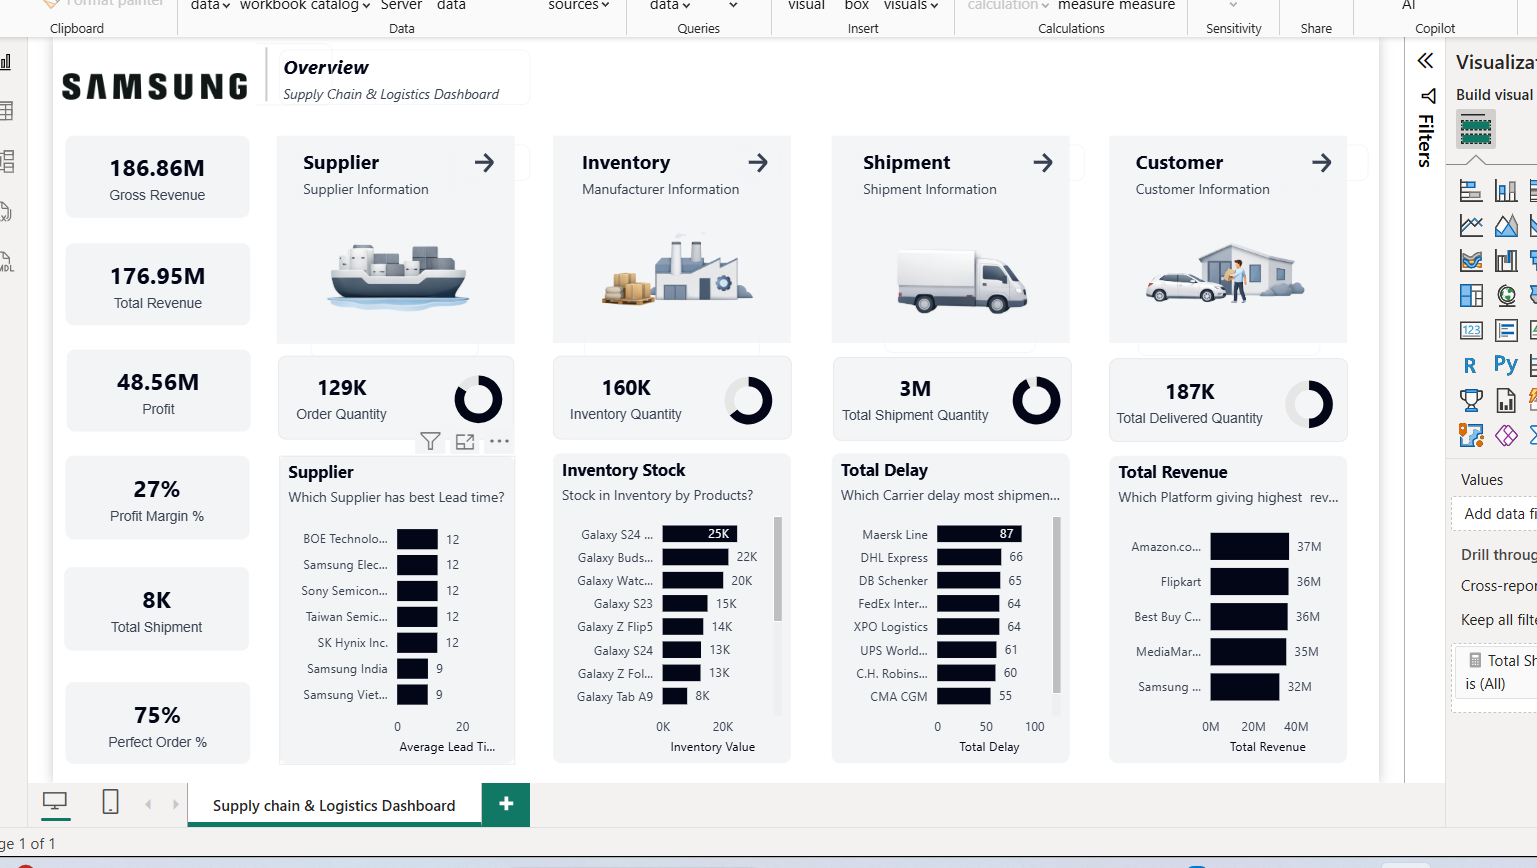

Layout of this report page (visuals, bound fields, positions):
{"tool":"powerbi","page":{"name":"Supply chain & Logistics Dashboard","canvas":[1280,720],"ordinal":0},"visuals":[{"type":"shape","box":[483,95.4,229.9,200],"z":0},{"type":"shape","box":[752,95.4,229.9,200],"z":1000},{"type":"shape","box":[1019.8,95.4,229.9,200],"z":2000},{"type":"shape","box":[216.4,95.4,229.9,200.5],"z":3000},{"type":"image","box":[248.2,139.4,162.6,170],"z":4000},{"type":"image","box":[512.4,128.4,170,183.4],"z":5000},{"type":"image","box":[1046.7,143.1,176.1,163.9],"z":6000},{"type":"image","box":[802.2,156.5,146.7,148],"z":7000},{"type":"actionButton","box":[398.6,103.9,62.4,35.5],"z":8000},{"type":"actionButton","box":[1206.9,103.9,63.6,35.5],"z":9000},{"type":"actionButton","box":[937.9,103.9,58.7,35.5],"z":10000},{"type":"actionButton","box":[662.8,103.9,39.1,35.5],"z":11000},{"type":"shape","title":"Supplier","box":[237.2,103.9,149.2,53.8],"z":12000},{"type":"shape","title":"Customer","box":[1040.6,103.9,149.2,53.8],"z":13000},{"type":"shape","title":"Shipment","box":[777.7,103.9,148,53.8],"z":14000},{"type":"shape","title":"Inventory","box":[506.3,103.9,163.9,53.8],"z":15000},{"type":"shape","title":"Overview","box":[218.9,12.2,242.1,53.8],"z":16000},{"type":"shape","box":[141.8,6.1,127.2,59.9],"z":17000},{"type":"image","box":[0,0,195.7,95.4],"z":18000},{"type":"card","fields":{"Values":["Measures_table.Total Revenue"]},"box":[12.2,199.3,178.5,79.5],"z":19000},{"type":"card","fields":{"Values":["Measures_table.Perfect Order %"]},"box":[12.2,622.4,178.5,79.5],"z":20000},{"type":"card","fields":{"Values":["Measures_table.Profit Margin %"]},"box":[12.2,404.8,177.3,80.7],"z":21000},{"type":"card","fields":{"Values":["Measures_table.Profit"]},"box":[13.5,302,177.3,79.5],"z":22000},{"type":"card","fields":{"Values":["Sum(fact_sales.gross_revenue)"]},"box":[12.2,95.4,177.3,79.5],"z":23000},{"type":"card","fields":{"Values":["Measures_table.Total Shipment"]},"box":[11,511.1,178.5,80.7],"z":24000},{"type":"shape","box":[217.2,307.6,228,80.8],"z":25000},{"type":"shape","box":[482.6,307.6,230.4,80.8],"z":26000},{"type":"shape","box":[752.8,308.8,230.4,80.8],"z":27000},{"type":"shape","box":[1019.4,310.1,230.4,80.8],"z":28000},{"type":"card","fields":{"Values":["Measures_table.order_Qty"]},"box":[224.4,313.7,108.6,67.6],"z":29000},{"type":"card","fields":{"Values":["Measures_table.Total Shipment Quantity"]},"box":[752.8,314.9,159.3,67.6],"z":30000},{"type":"card","fields":{"Values":["Measures_table.Total Delivered Quantity"]},"box":[1019.4,317.3,155.6,67.6],"z":31000},{"type":"card","fields":{"Values":["Measures_table.Inventory Value"]},"box":[493.4,313.7,119.4,67.6],"z":32000},{"type":"barChart","title":"Supplier","fields":{"Category":["dim_supplier.supplier_name"],"Y":["Measures_table.Average Lead Time"]},"box":[218.9,404.8,227.4,297.1],"z":33000},{"type":"barChart","title":"Total Delay","fields":{"Category":["fact_shipment.carrier"],"Y":["Measures_table.Total Delay"]},"box":[752,402.3,229.9,299.6],"z":34000},{"type":"barChart","title":"Inventory Stock","fields":{"Category":["dim_product.product_name"],"Y":["Measures_table.Inventory Value"]},"box":[483,402.3,229.9,299.6],"z":35000},{"type":"barChart","title":"Total Revenue","fields":{"Category":["dim_customer.customer_name"],"Y":["Measures_table.Total Revenue"]},"box":[1019.8,404.8,229.9,297.1],"z":36000},{"type":"donutChart","fields":{"Y":["Measures_table.order_Qty","Measures_table.Defect Rate"]},"box":[375.2,316.1,71.2,67.6],"z":37000},{"type":"donutChart","fields":{"Y":["Measures_table.Inventory Value","Measures_table.safety Stock"]},"box":[629.8,317.3,83.2,67.6],"z":38000},{"type":"donutChart","fields":{"Y":["Measures_table.Total Shipment","Measures_table.Total Delay"]},"box":[912.1,317.3,74.8,67.6],"z":39000},{"type":"donutChart","fields":{"Y":["Measures_table.Total Delivered Quantity","Measures_table.Total Qty Delay"]},"box":[1175.1,320.9,74.8,67.6],"z":40000}]}

Visuals, with their boxes on the page's 1280x720 design canvas (x1, y1, x2, y2). These are canvas units, not pixel positions in the 1537x868 screenshot, which may show the page scaled, cropped or inside an application window:
shape: 483/95/713/295
shape: 752/95/982/295
shape: 1020/95/1250/295
shape: 216/95/446/296
image: 248/139/411/309
image: 512/128/682/312
image: 1047/143/1223/307
image: 802/156/949/304
actionButton: 399/104/461/139
actionButton: 1207/104/1270/139
actionButton: 938/104/997/139
actionButton: 663/104/702/139
"Supplier" shape: 237/104/386/158
"Customer" shape: 1041/104/1190/158
"Shipment" shape: 778/104/926/158
"Inventory" shape: 506/104/670/158
"Overview" shape: 219/12/461/66
shape: 142/6/269/66
image: 0/0/196/95
card - Measures_table.Total Revenue: 12/199/191/279
card - Measures_table.Perfect Order %: 12/622/191/702
card - Measures_table.Profit Margin %: 12/405/190/486
card - Measures_table.Profit: 14/302/191/382
card - Sum(fact_sales.gross_revenue): 12/95/190/175
card - Measures_table.Total Shipment: 11/511/190/592
shape: 217/308/445/388
shape: 483/308/713/388
shape: 753/309/983/390
shape: 1019/310/1250/391
card - Measures_table.order_Qty: 224/314/333/381
card - Measures_table.Total Shipment Quantity: 753/315/912/382
card - Measures_table.Total Delivered Quantity: 1019/317/1175/385
card - Measures_table.Inventory Value: 493/314/613/381
"Supplier" barChart: 219/405/446/702
"Total Delay" barChart: 752/402/982/702
"Inventory Stock" barChart: 483/402/713/702
"Total Revenue" barChart: 1020/405/1250/702
donutChart - Measures_table.order_Qty x Measures_table.Defect Rate: 375/316/446/384
donutChart - Measures_table.Inventory Value x Measures_table.safety Stock: 630/317/713/385
donutChart - Measures_table.Total Shipment x Measures_table.Total Delay: 912/317/987/385
donutChart - Measures_table.Total Delivered Quantity x Measures_table.Total Qty Delay: 1175/321/1250/388
